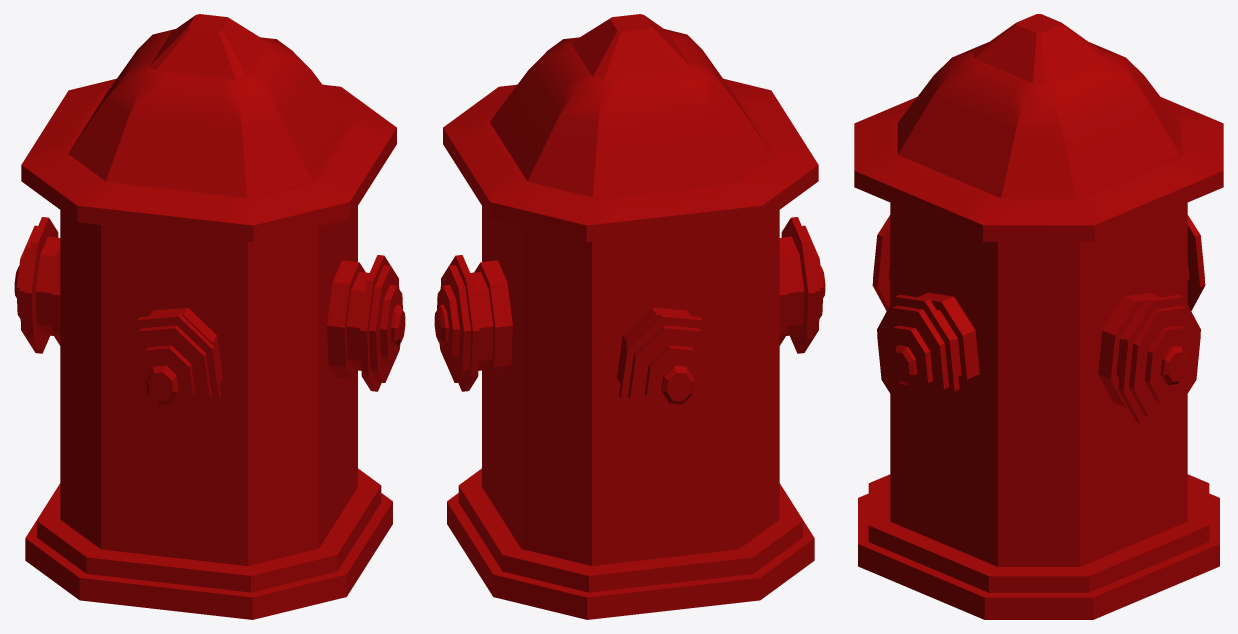
The model's file is FIRE_HYDRANT_RAW (1).fbx.
3 renders of one model, left to right at view 1: azimuth 30°, elevation 25°; view 2: azimuth 150°, elevation 25°; view 3: azimuth 270°, elevation 25°, orthographic.
Visible parts, largest first — view 1: fire_hydrant; view 2: fire_hydrant; view 3: fire_hydrant.
Boxes of the visible parts, bbox=[...] form: fire_hydrant: bbox=[14, 14, 405, 619]; fire_hydrant: bbox=[434, 14, 825, 619]; fire_hydrant: bbox=[854, 14, 1223, 619].
Bounding box in the file's own units: 13.09 × 20.32 × 13.09.
